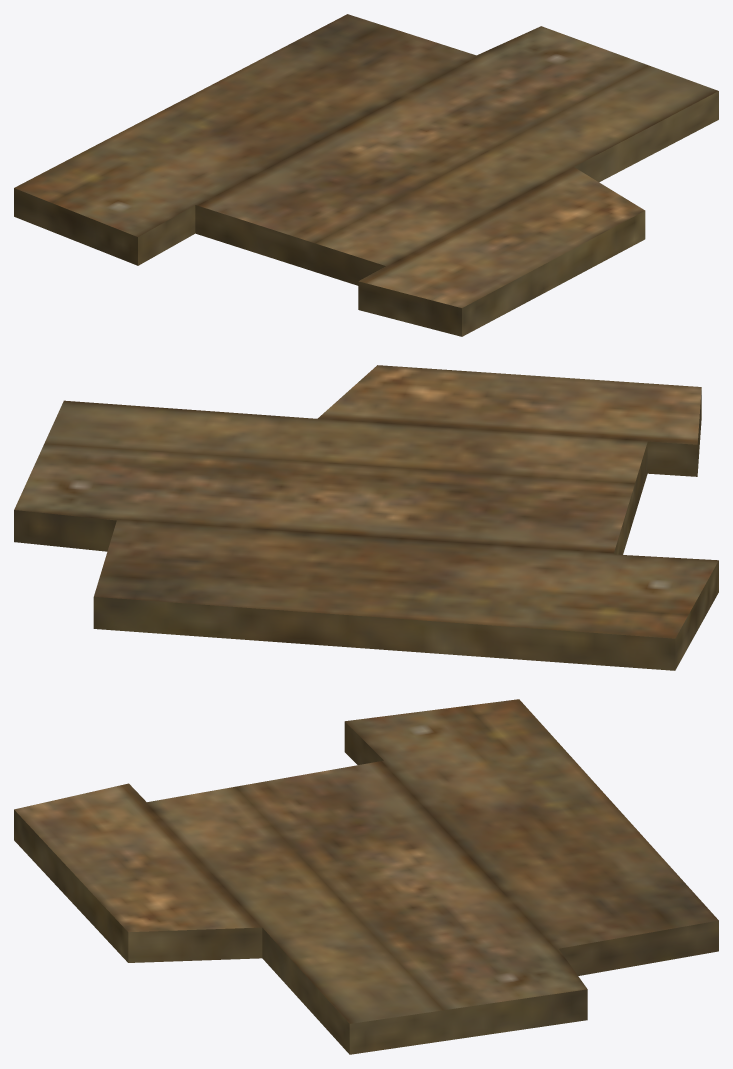
The model's file is WoodDecor02.glb.
3 views of the same model, one above another, from view 1: azimuth 30°, elevation 25°; view 2: azimuth 150°, elevation 25°; view 3: azimuth 270°, elevation 25° (orthographic). The views are drawn at different scales.
Visible parts, largest first — view 1: WoodDecor02; view 2: WoodDecor02; view 3: WoodDecor02.
Part boxes in pixels (x1,y1,x2,y2): WoodDecor02: (14, 14, 718, 336); WoodDecor02: (14, 365, 718, 670); WoodDecor02: (14, 699, 718, 1054).
Size of what is drawn, in the model's own units: 1.14 by 0.0539 by 1.04.
1 material, 1 textured.
